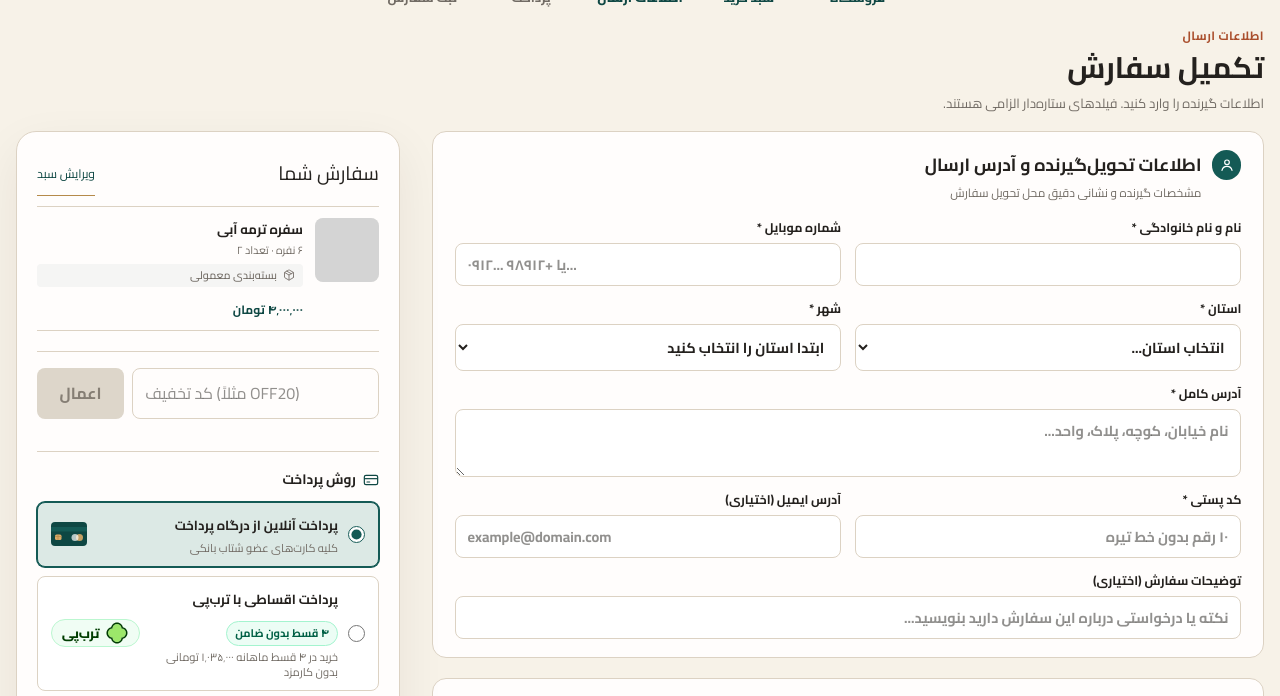
it: checkout order review › keeps the review and cart available and shows error popup when order creation fails
This screenshot has width=1280, height=696.
Type "مریم احمدی" into the field labelled "نام و نام خانوادگی *".
click(1048, 264); type("مریم احمدی")  # box [855,243,1241,286]
Type "۰۹۱۲۱۲۳۴۵۶۷" into the field labelled "شماره موبایل *".
click(648, 264); type("۰۹۱۲۱۲۳۴۵۶۷")  # box [455,243,841,286]
Select "تهران" in the dropdown labelled "استان *" at (1048, 347), box [855,324,1241,371]
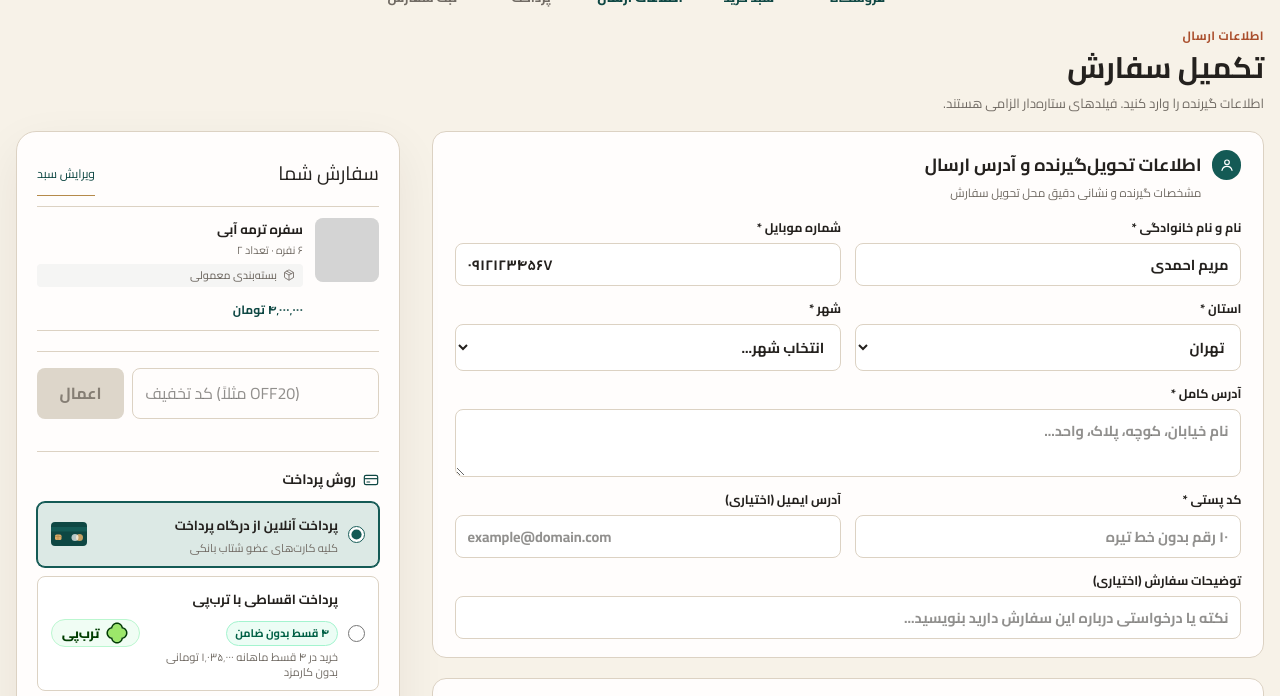
Select "تهران" in the dropdown labelled "شهر *" at (648, 347), box [455,324,841,371]
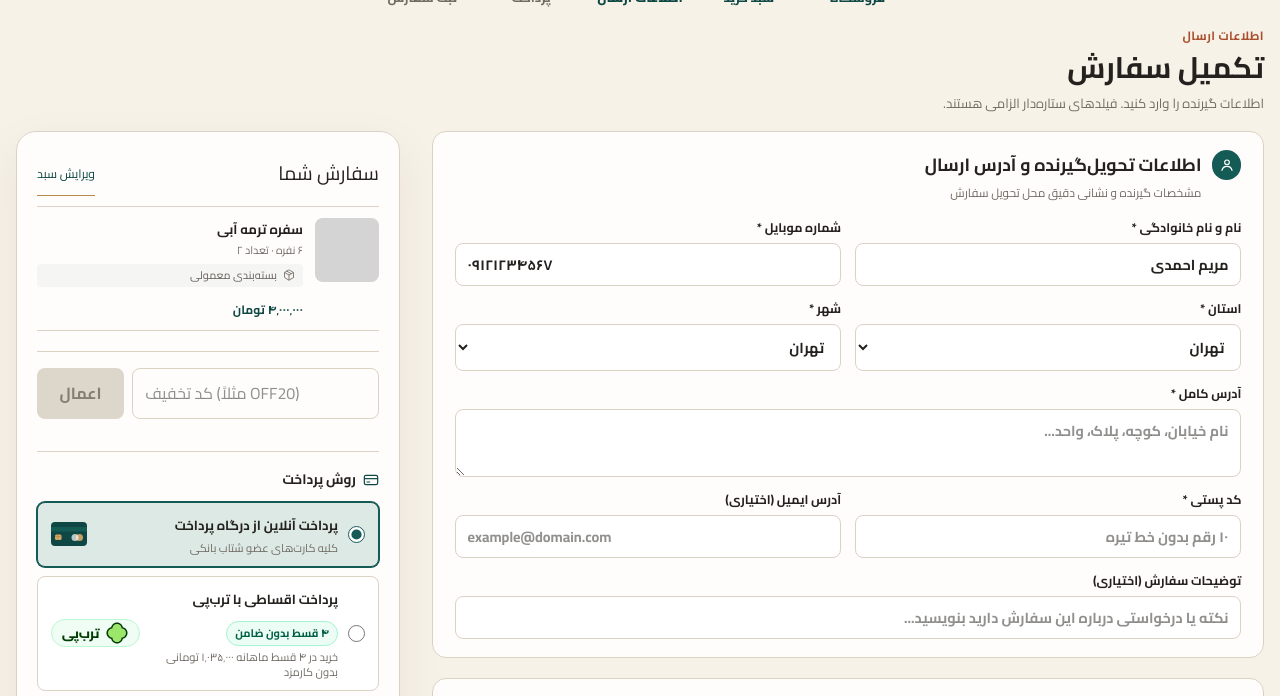
Type "خیابان ولیعصر، کوچه یازدهم، پلاک ۲۴" into the text box labelled "آدرس کامل *".
click(848, 443); type("خیابان ولیعصر، کوچه یازدهم، پلاک ۲۴")  # box [455,409,1241,477]
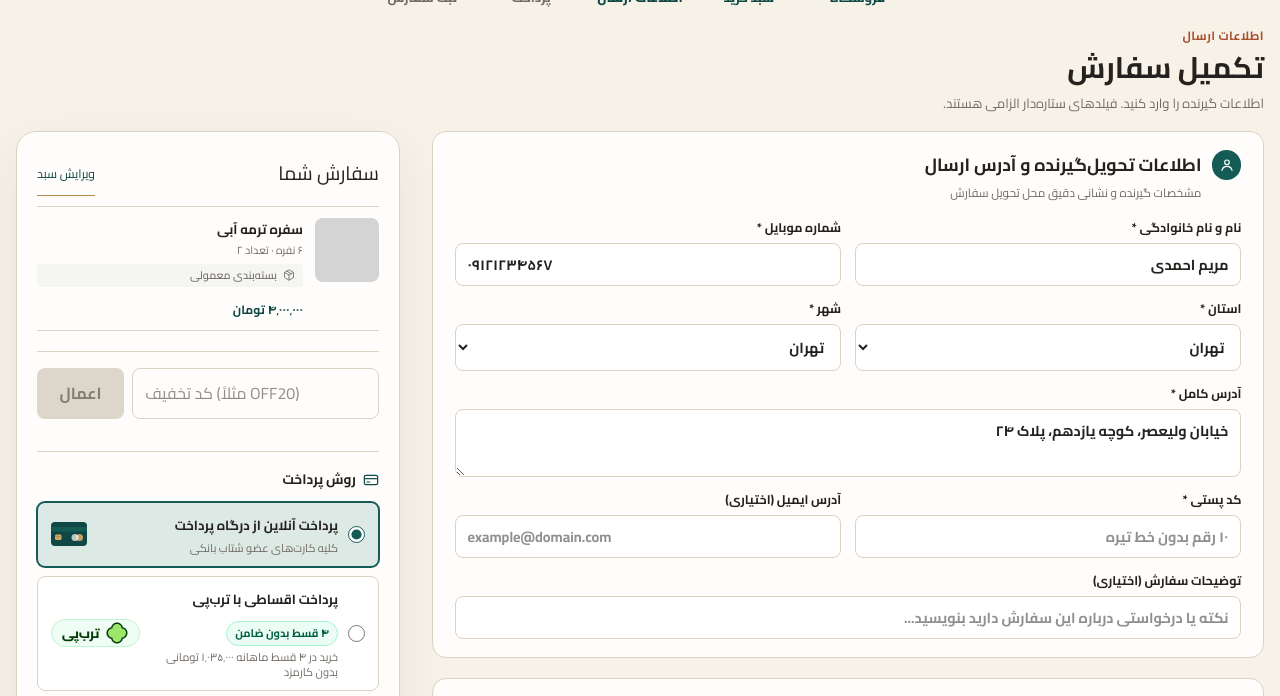
Type "۱۲۳۴۵۶۷۸۹۰" into the field labelled "کد پستی *".
click(1048, 536); type("۱۲۳۴۵۶۷۸۹۰")  # box [855,515,1241,558]
(page scrolled)
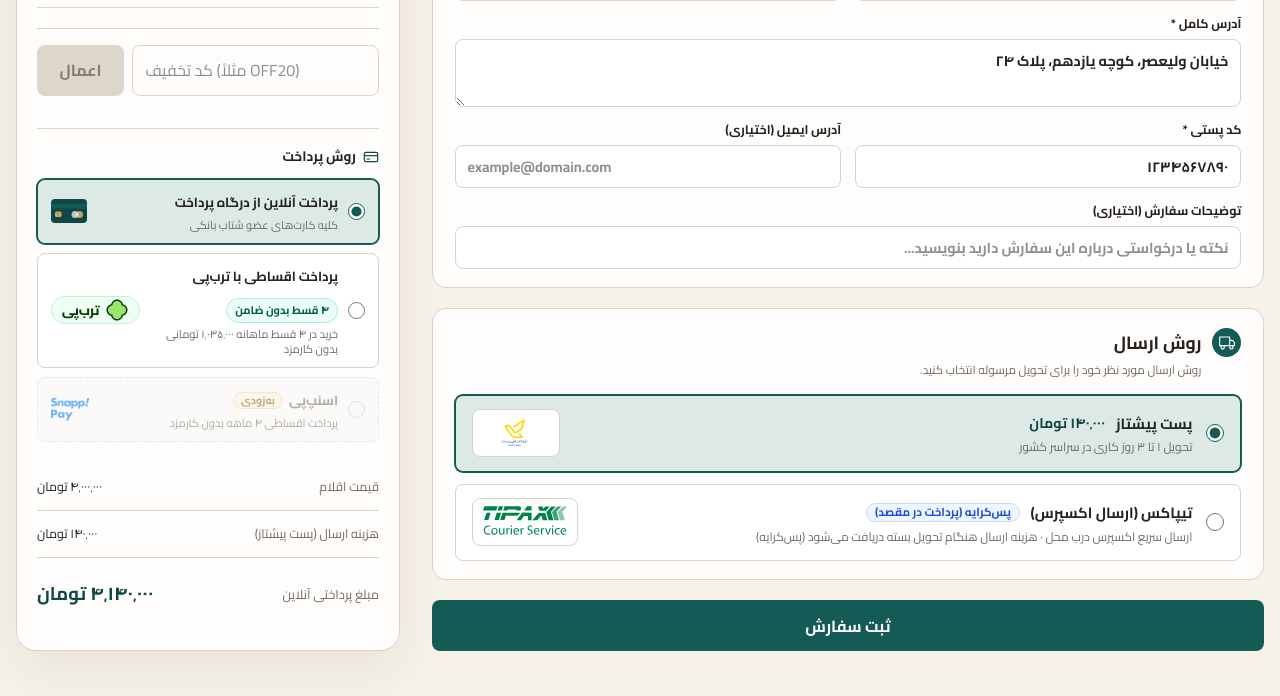
Click the button "ثبت سفارش".
click(848, 626)  # box [432,600,1264,651]
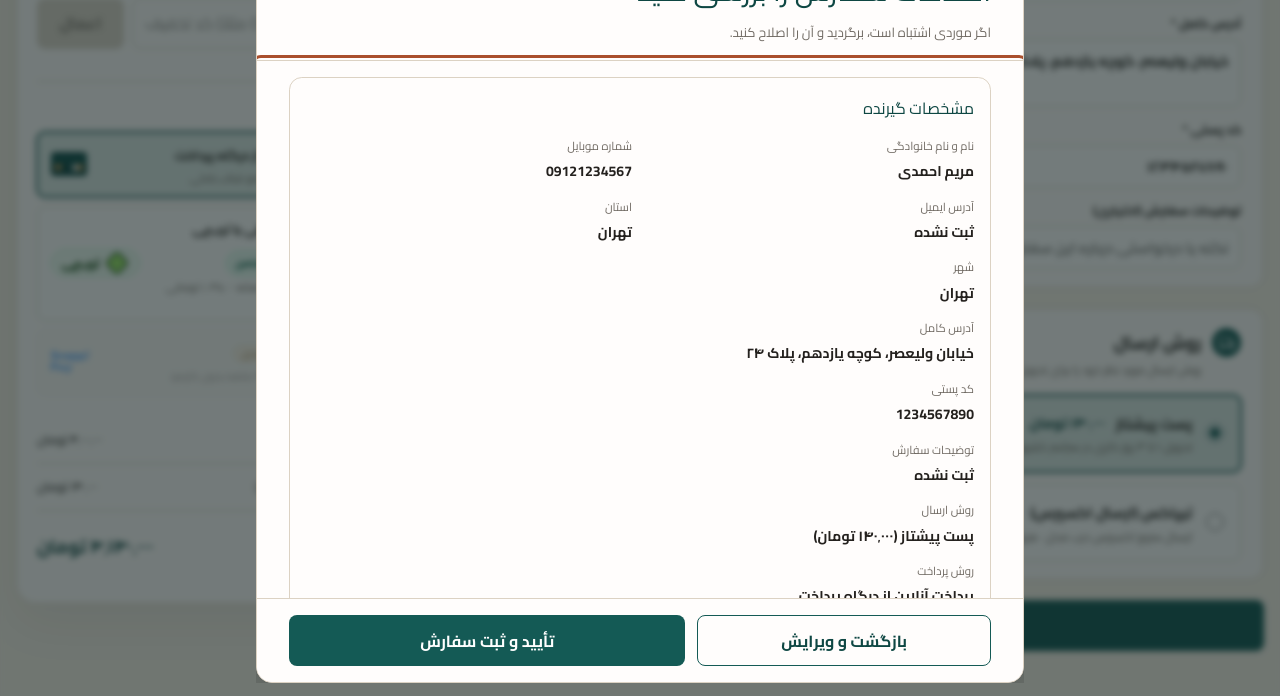
Click the button "تأیید و ثبت سفارش".
click(487, 641)  # box [289,615,685,666]
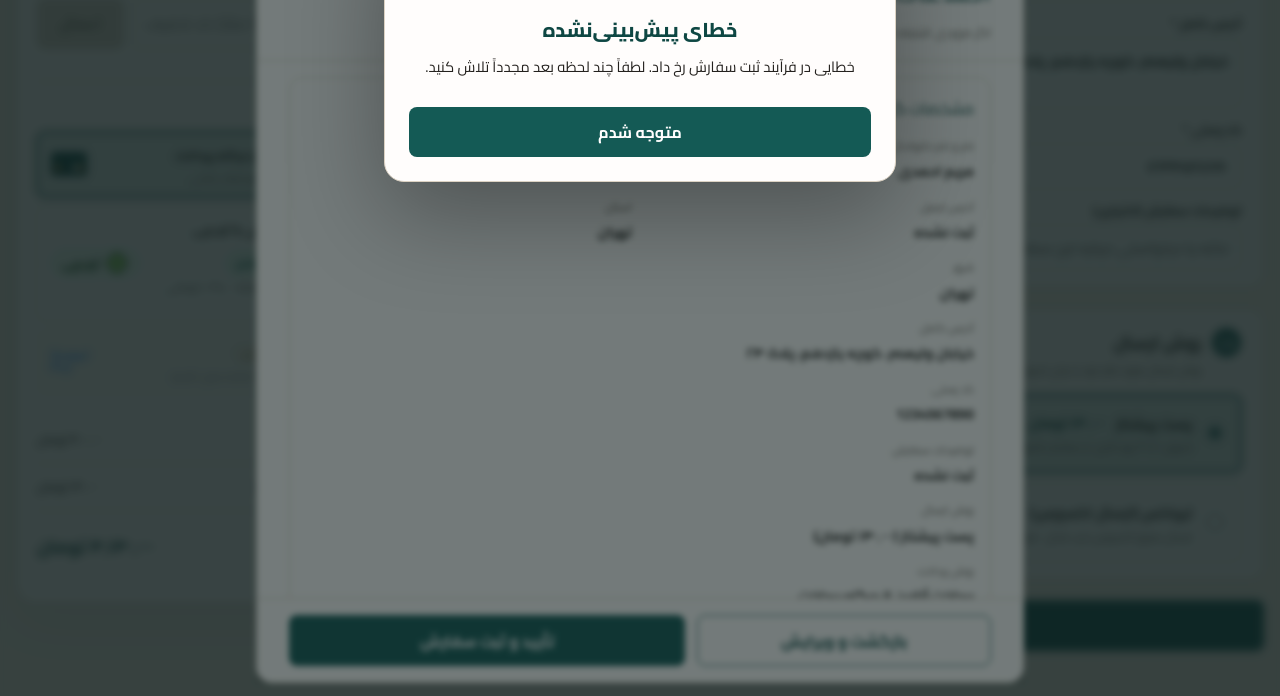
Result: the button "تأیید و ثبت سفارش" is enabled at [289,615,685,666]
Result: the text "خطایی در فرآیند ثبت سفارش رخ داد" is shown at [425,53,855,80]
